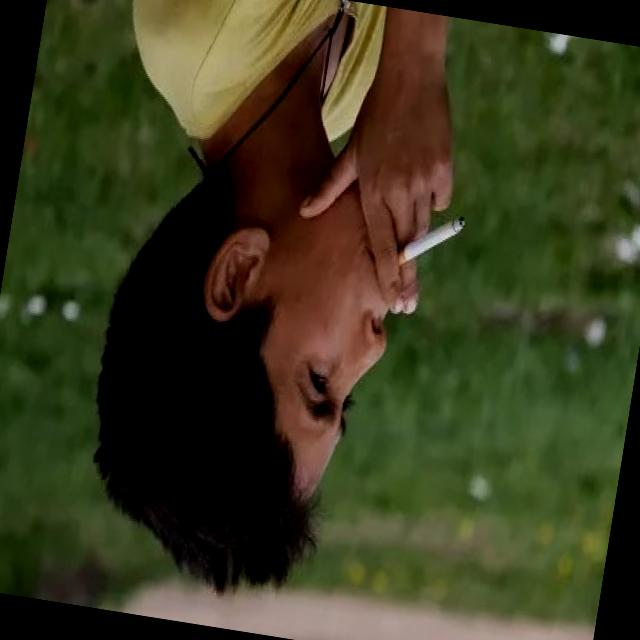cigarette: (380, 194, 472, 282)
